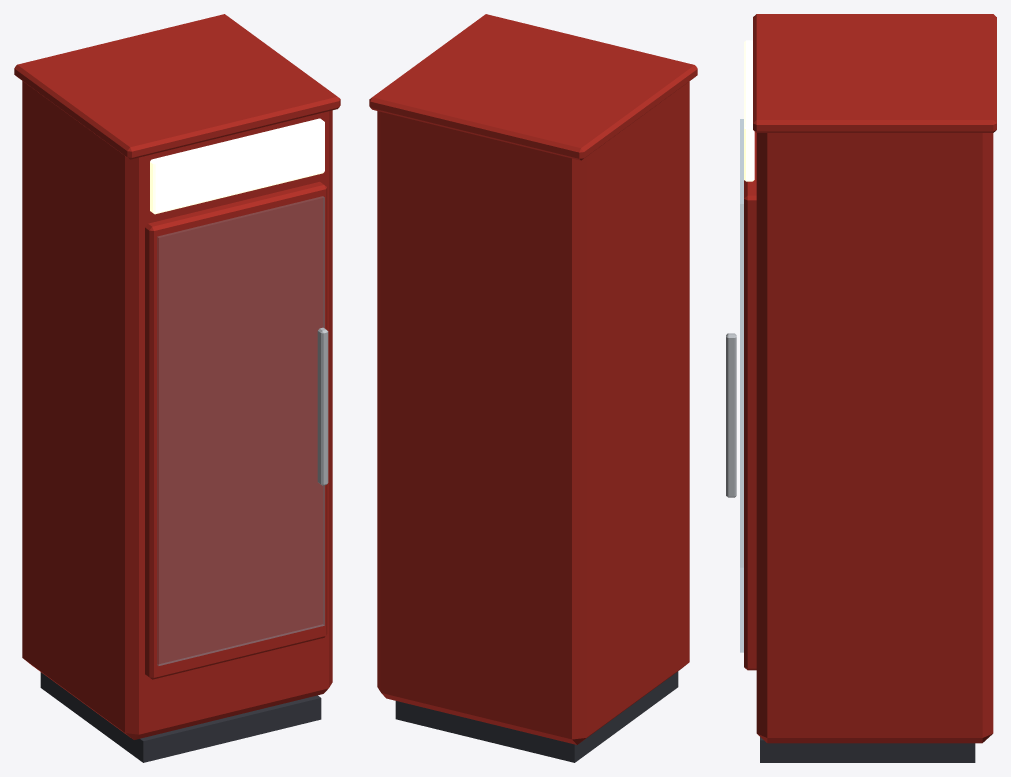
Rendered from fridge_drinks.glb.
3 renders of one model, left to right at view 1: azimuth 30°, elevation 25°; view 2: azimuth 150°, elevation 25°; view 3: azimuth 270°, elevation 25°, orthographic. The views are drawn at different scales.
Parts seen in each view (by area): view 1: fridge_drinks; view 2: fridge_drinks; view 3: fridge_drinks.
Boxes of the visible parts, left/top/right/bottom form: fridge_drinks: left=14, top=14, right=340, bottom=762; fridge_drinks: left=369, top=14, right=697, bottom=762; fridge_drinks: left=726, top=14, right=996, bottom=762.
Bounding box in the file's own units: 0.72 × 2 × 0.755.
